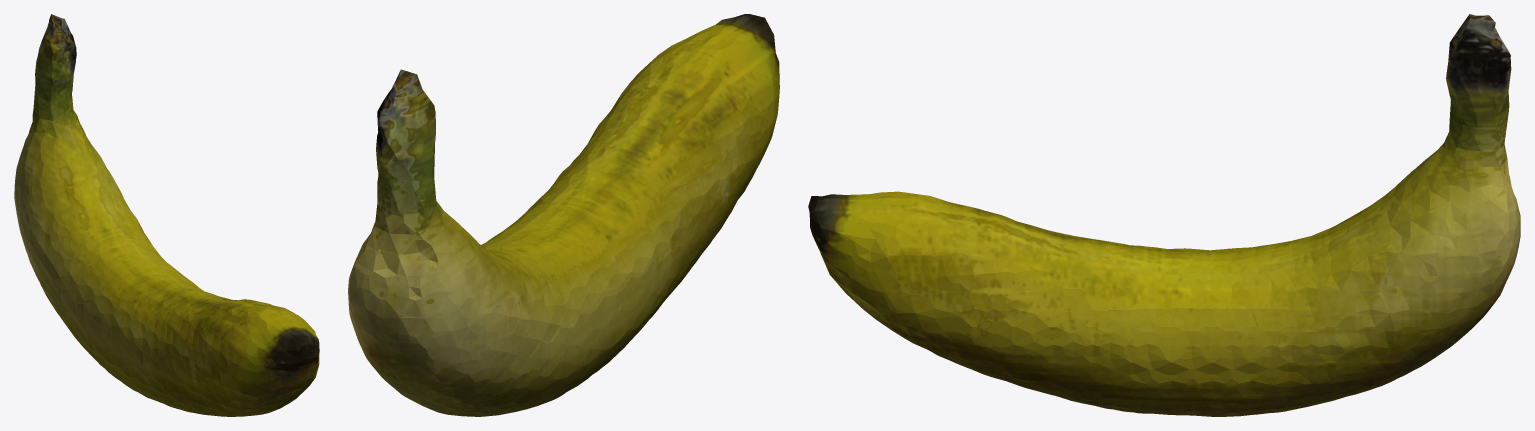
The model's file is banana.glb.
3 views of the same model, side by side, from view 1: azimuth 30°, elevation 25°; view 2: azimuth 150°, elevation 25°; view 3: azimuth 270°, elevation 25° (orthographic). The views are drawn at different scales.
Parts seen in each view (by area): view 1: banana; view 2: banana; view 3: banana.
Part boxes in pixels (x1,y1,x2,y2): banana: (14,14,319,416); banana: (348,14,779,416); banana: (808,14,1520,416).
Size of the model in its own units: 0.1756 by 0.4878 by 0.8006.
1 material, 1 textured.
